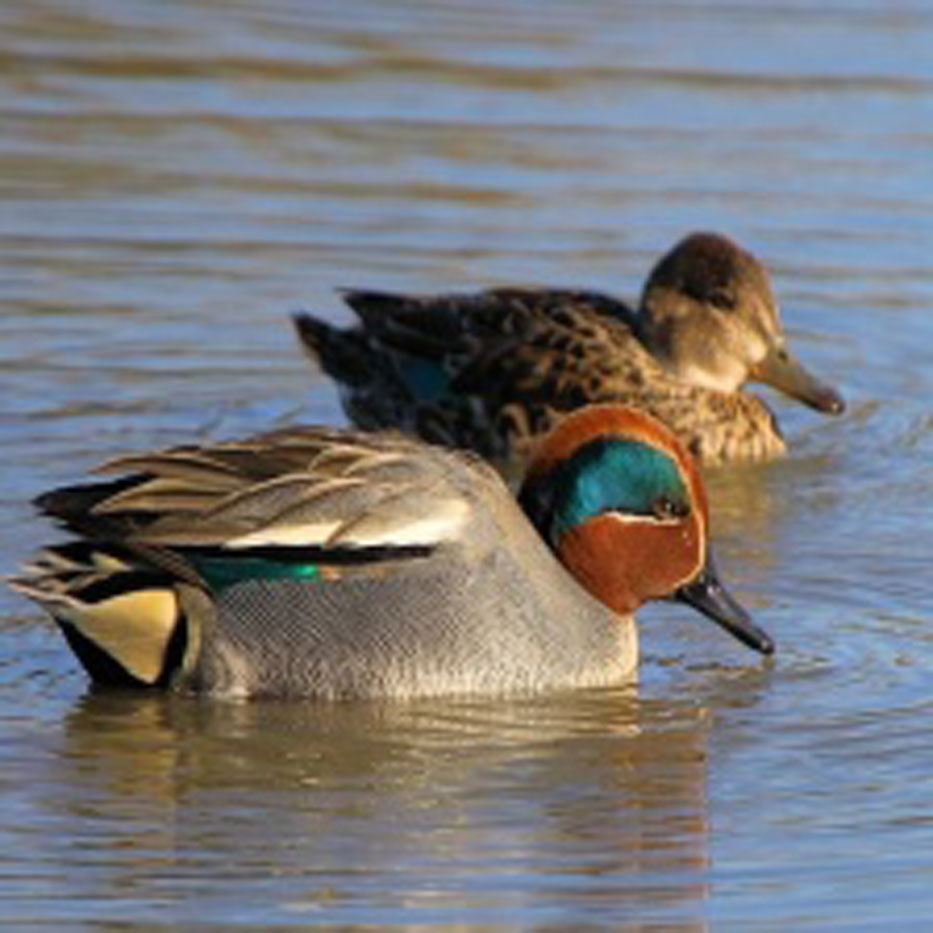Mencari Makan di Lumpur: (671, 565, 786, 674), (751, 341, 848, 431)
